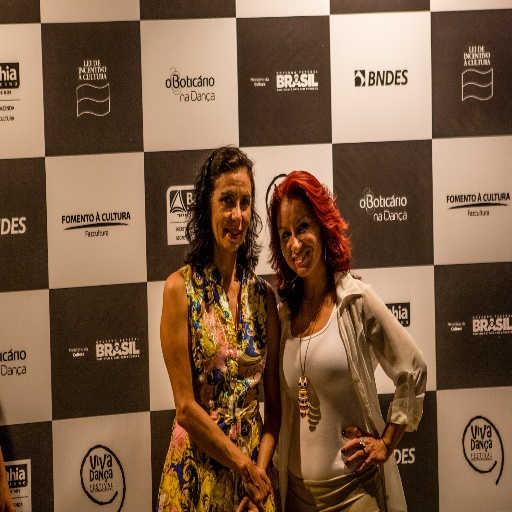hand: (342, 430, 396, 483), (243, 462, 271, 511), (232, 490, 258, 511)
